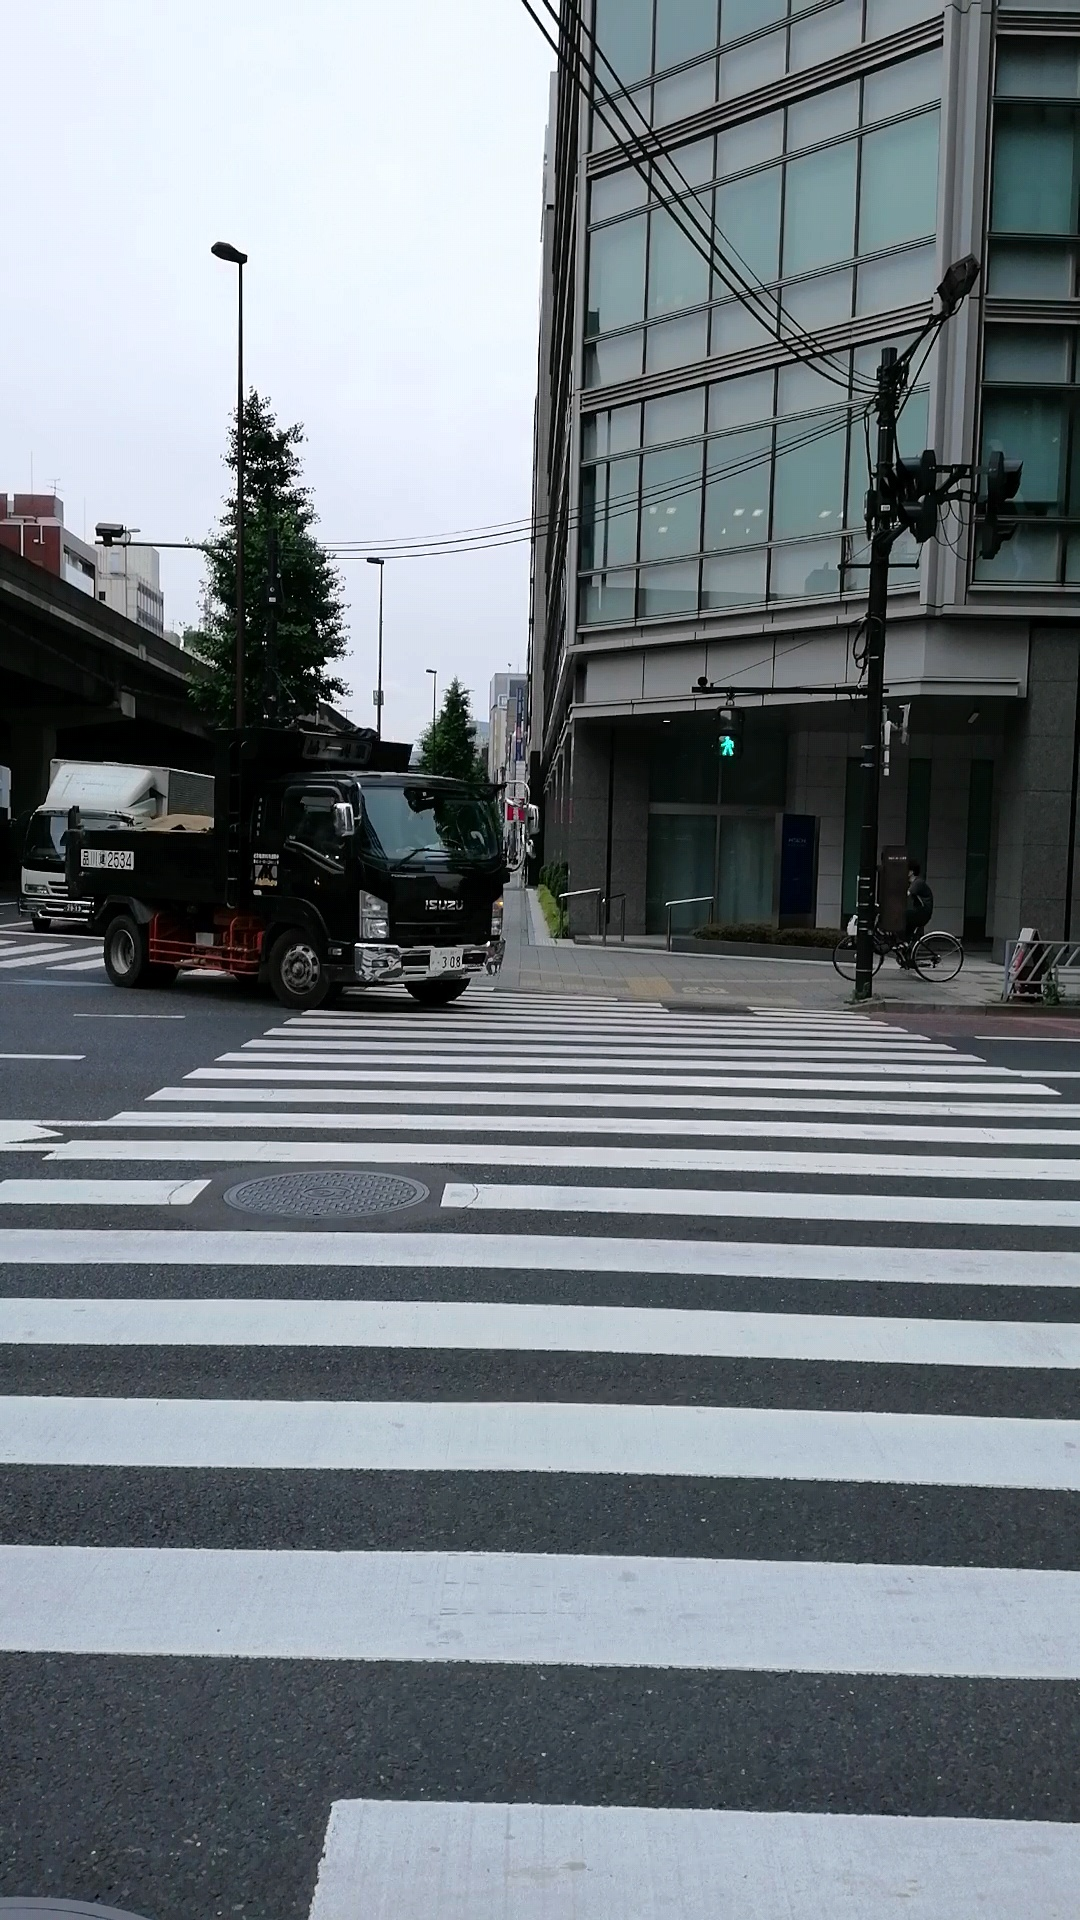green: (711, 705, 745, 762)
